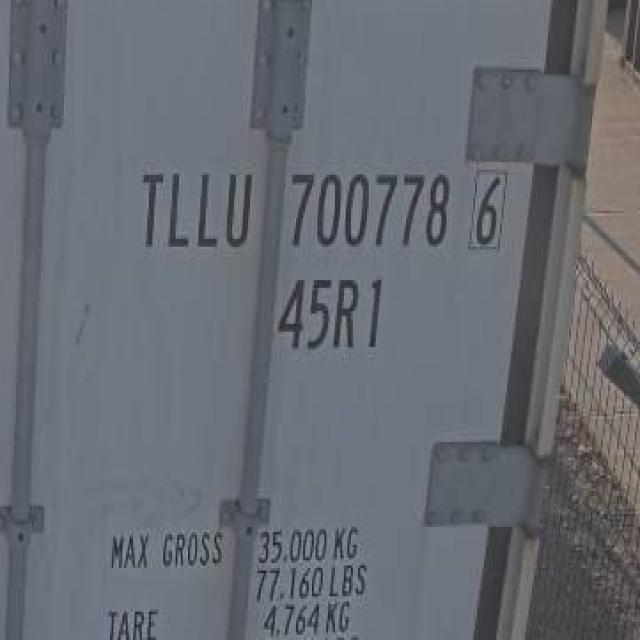dv: (460, 159, 514, 255)
owner: (131, 154, 260, 258)
serial: (280, 162, 451, 252)
size: (274, 267, 393, 357)
